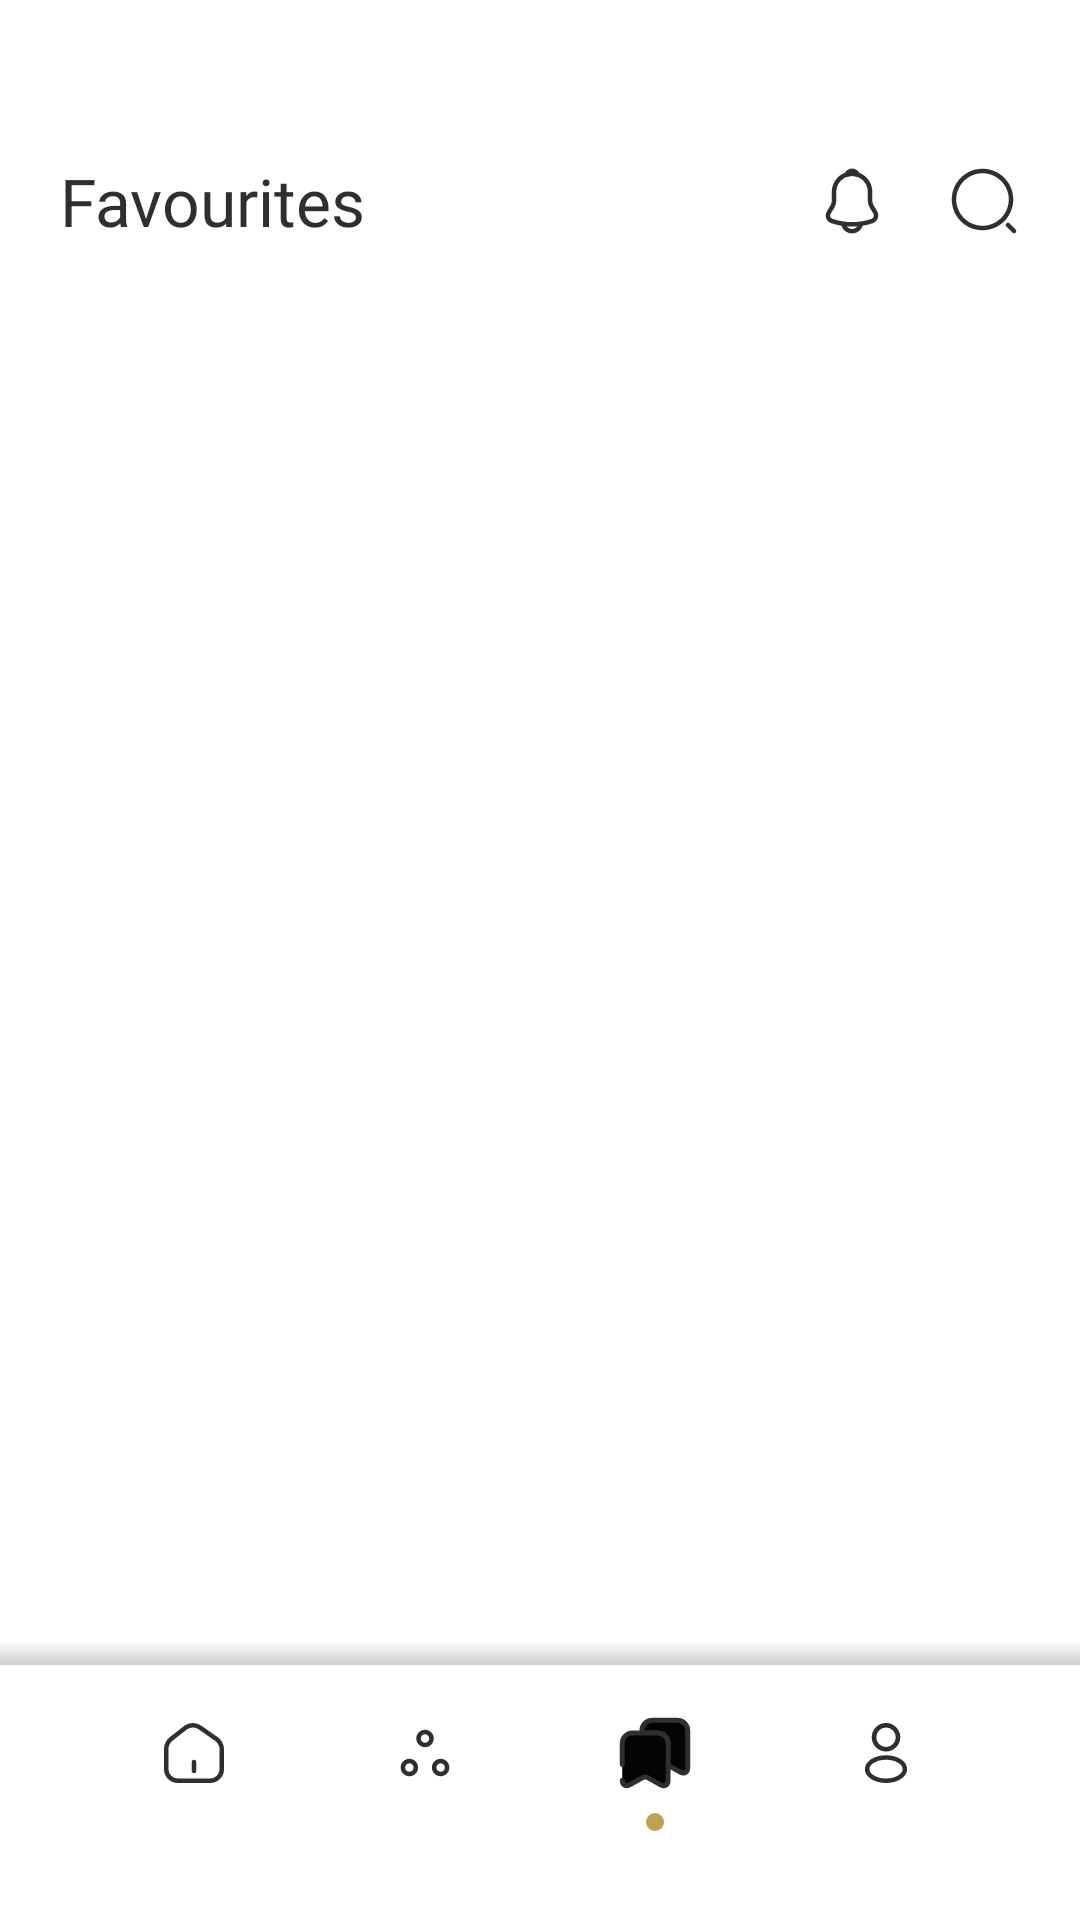

Where to tap for icons on this 1080px x 1920px app screen, as (x=x, y=y):
home: (x=194, y=1753)
notification: (x=852, y=201)
profile: (x=886, y=1753)
save: (x=655, y=1753)
search: (x=984, y=201)
